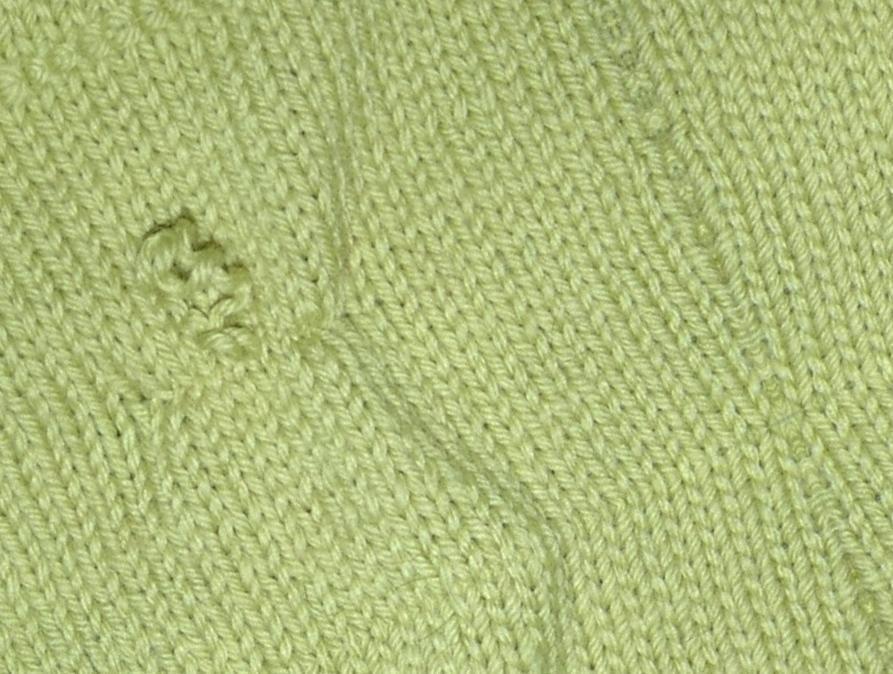knot: (139, 210, 269, 367)
